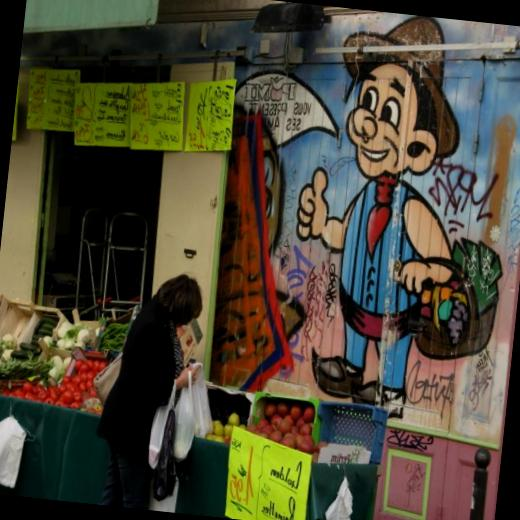Apple: (243, 399, 331, 461), (204, 410, 248, 444), (276, 418, 291, 435)
